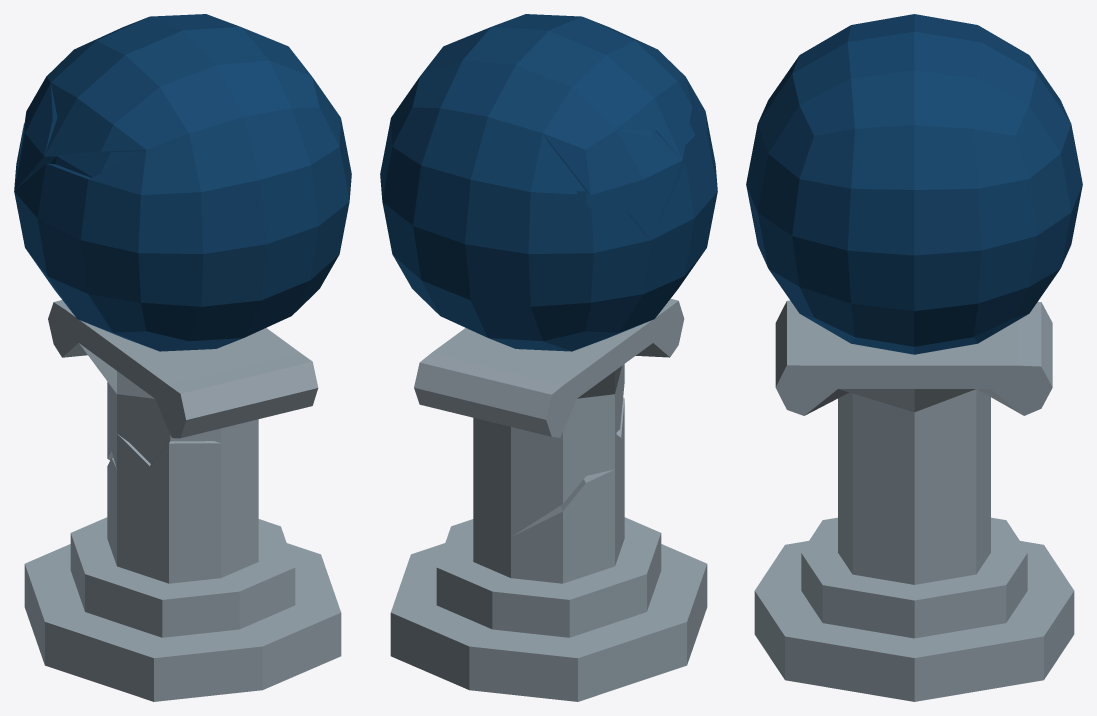
Rendered from broken_down_oxygen_building.fbx.
3 views of the same model, side by side, from view 1: azimuth 30°, elevation 25°; view 2: azimuth 150°, elevation 25°; view 3: azimuth 270°, elevation 25° (orthographic).
Visible parts, largest first — view 1: Cube.001, Cube; view 2: Cube.001, Cube; view 3: Cube.001, Cube.
Part boxes in pixels (x1,y1,x2,y2): Cube.001: (14, 14, 351, 351); Cube: (24, 300, 341, 701); Cube.001: (380, 14, 717, 351); Cube: (390, 298, 707, 701); Cube.001: (746, 14, 1082, 354); Cube: (754, 300, 1074, 701).
Bounding box in the file's own units: 440 × 870 × 440.
